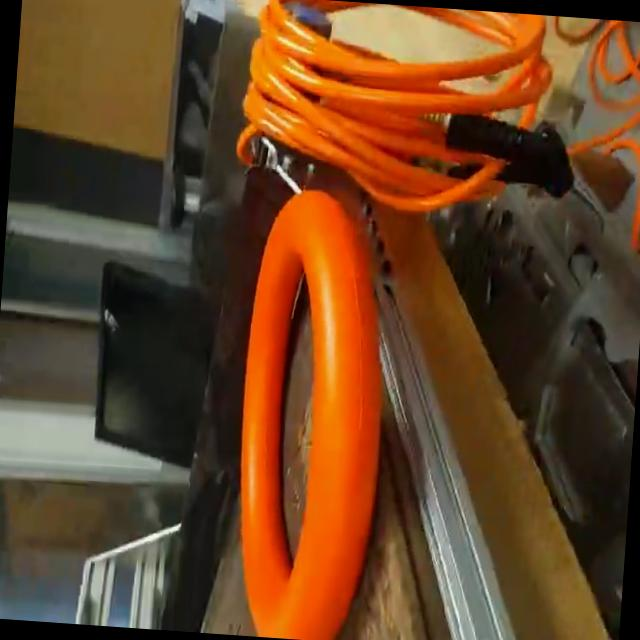note: (219, 185, 400, 640)
